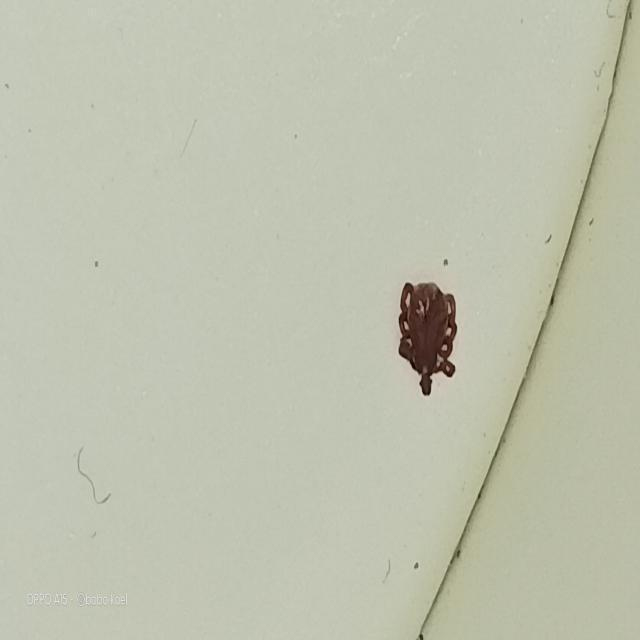Rhipicephalus Sanguineus-M: (396, 284, 459, 398)
